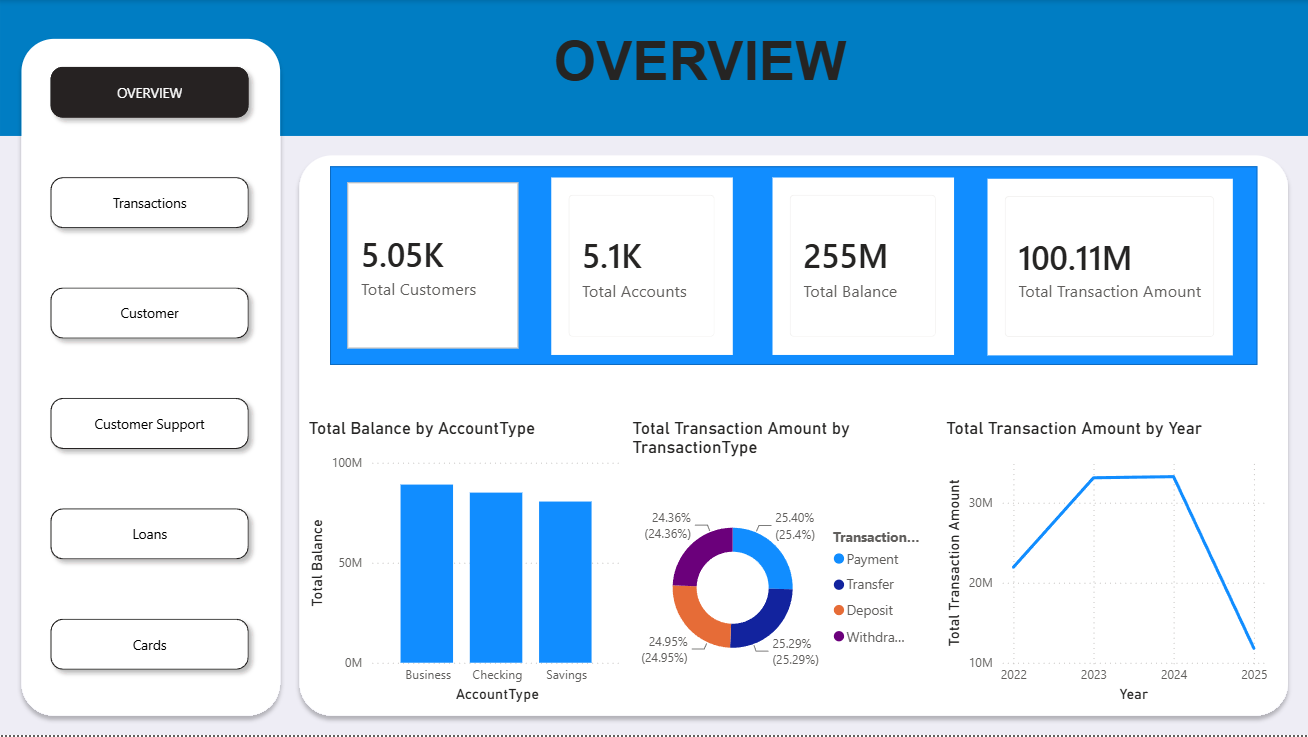

The page's visual inventory and layout, read from the dashboard file:
{"tool":"powerbi","page":{"name":"OVERVIEW","canvas":[1280,720],"ordinal":0},"visuals":[{"type":"image","box":[0,0,1280.3,720.2],"z":0},{"type":"shape","box":[323.3,162.6,907.3,194.4],"z":1000},{"type":"textbox","box":[536.8,24.5,314.3,81.9],"z":2000},{"type":"cardVisual","fields":{"Data":["customers.Total Customers"]},"box":[335.5,173.6,177.3,172.4],"z":3000},{"type":"cardVisual","fields":{"Data":["Accounts.Total Accounts"]},"box":[539.8,173.6,177.3,173.6],"z":4000},{"type":"cardVisual","fields":{"Data":["Accounts.Total Balance"]},"box":[756.2,173.6,177.3,173.6],"z":5000},{"type":"cardVisual","fields":{"Data":["Banking_Analytics_Transactions_Updated.Total Transaction Amount"]},"box":[966.5,174.9,239.7,172.4],"z":6000},{"type":"clusteredColumnChart","fields":{"Category":["Accounts.AccountType"],"Y":["Accounts.Total Balance"]},"box":[297.1,408.4,316.7,283.7],"z":7000},{"type":"donutChart","title":"Total Transaction Amount by TransactionType","fields":{"Category":["Banking_Analytics_Transactions_Updated.TransactionType"],"Y":["Banking_Analytics_Transactions_Updated.Total Transaction Amount"]},"box":[613.9,408.4,297.1,283.7],"z":8000},{"type":"lineChart","fields":{"Category":["Banking_Analytics_Transactions_Updated.TransactionDate.Variation.Date Hierarchy.Year"],"Y":["Banking_Analytics_Transactions_Updated.Total Transaction Amount"]},"box":[920.8,408.4,324.1,283.7],"z":9000},{"type":"pageNavigator","box":[40.4,56.3,212.8,611.4],"z":10000}]}

Visuals, with their boxes in screenshot pixels (x1, y1, x2, y2), scaled from the page's 1280x720 canvas onto the 1308x737 screenshot:
image: (0, 0, 1307, 736)
shape: (330, 166, 1258, 365)
textbox: (549, 25, 870, 109)
cardVisual - customers.Total Customers: (343, 178, 524, 354)
cardVisual - Accounts.Total Accounts: (552, 178, 733, 355)
cardVisual - Accounts.Total Balance: (773, 178, 954, 355)
cardVisual - Banking_Analytics_Transactions_Updated.Total Transaction Amount: (988, 179, 1233, 356)
clusteredColumnChart - Accounts.AccountType x Accounts.Total Balance: (304, 418, 627, 708)
"Total Transaction Amount by TransactionType" donutChart: (627, 418, 931, 708)
lineChart - Banking_Analytics_Transactions_Updated.TransactionDate.Variation.Date Hierarchy.Year x Banking_Analytics_Transactions_Updated.Total Transaction Amount: (941, 418, 1272, 708)
pageNavigator: (41, 58, 259, 683)
